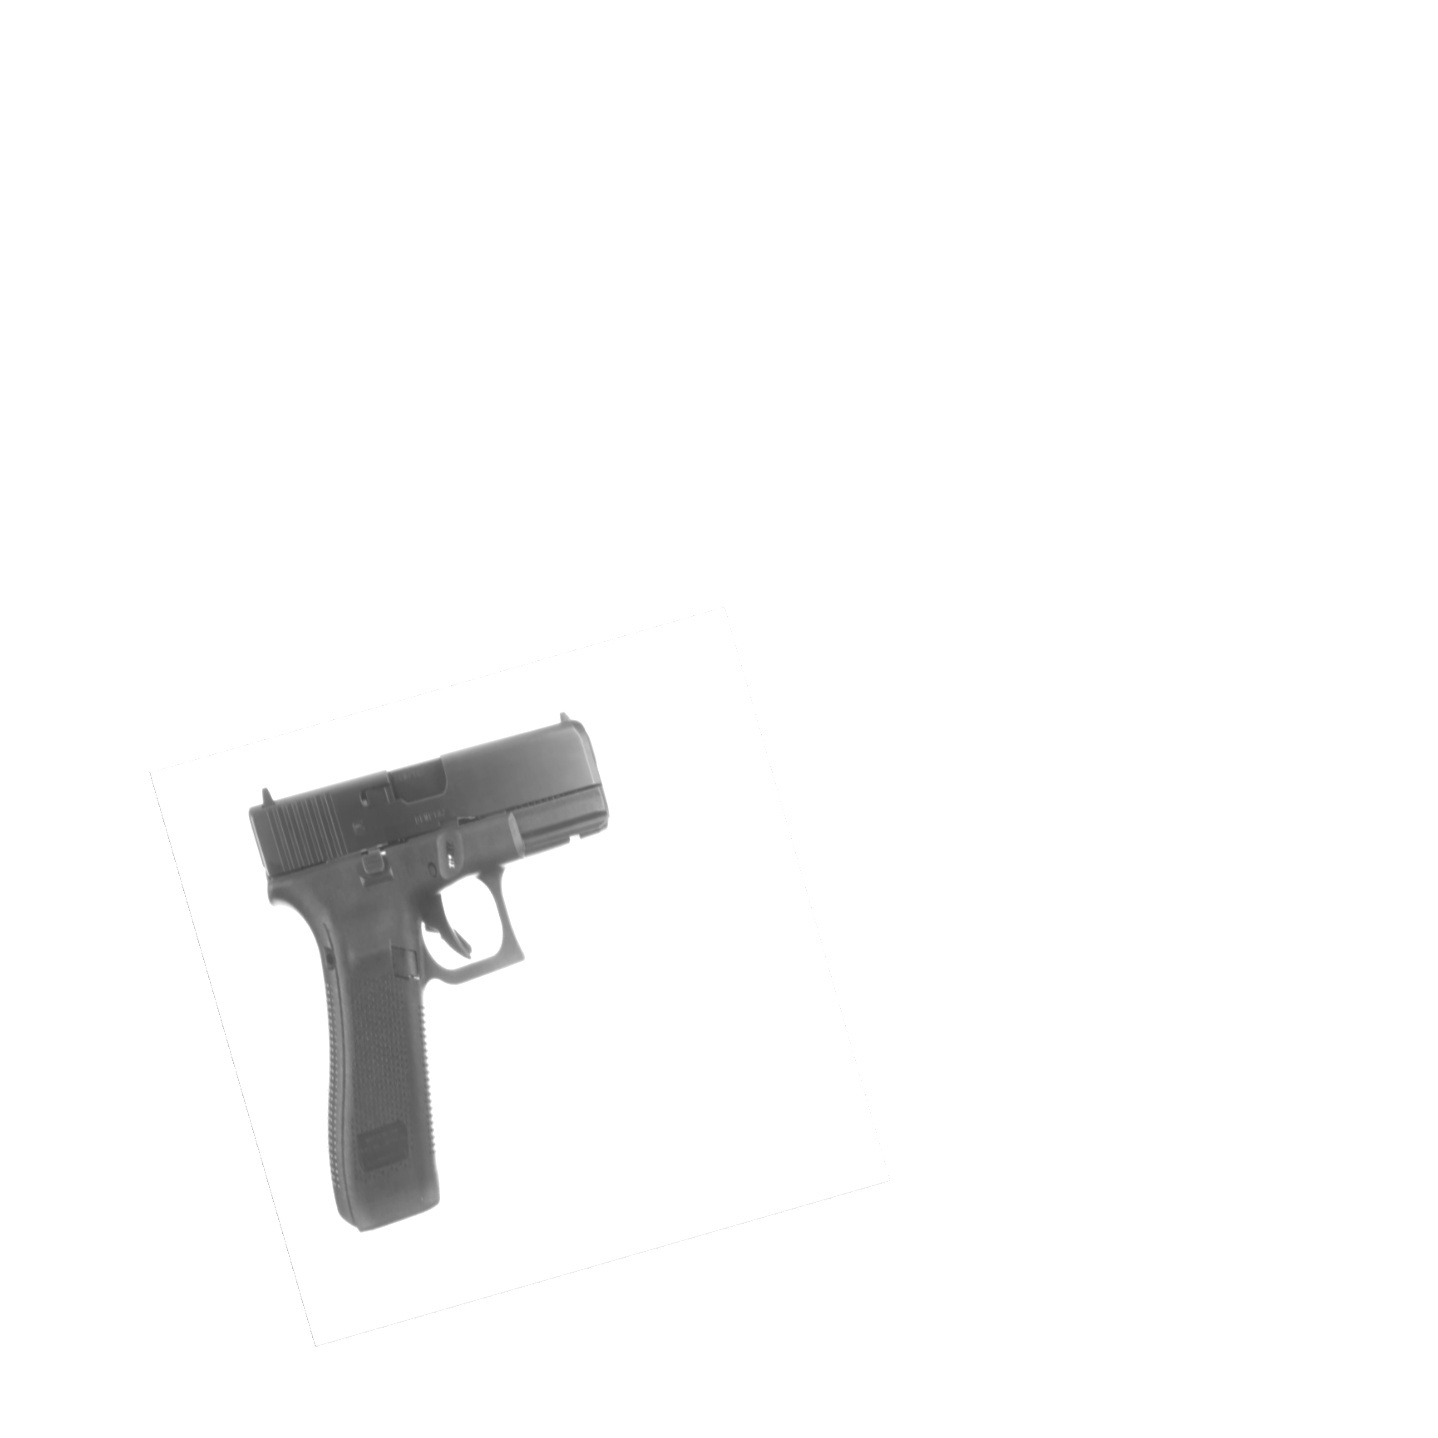gun: (246, 714, 610, 1234)
